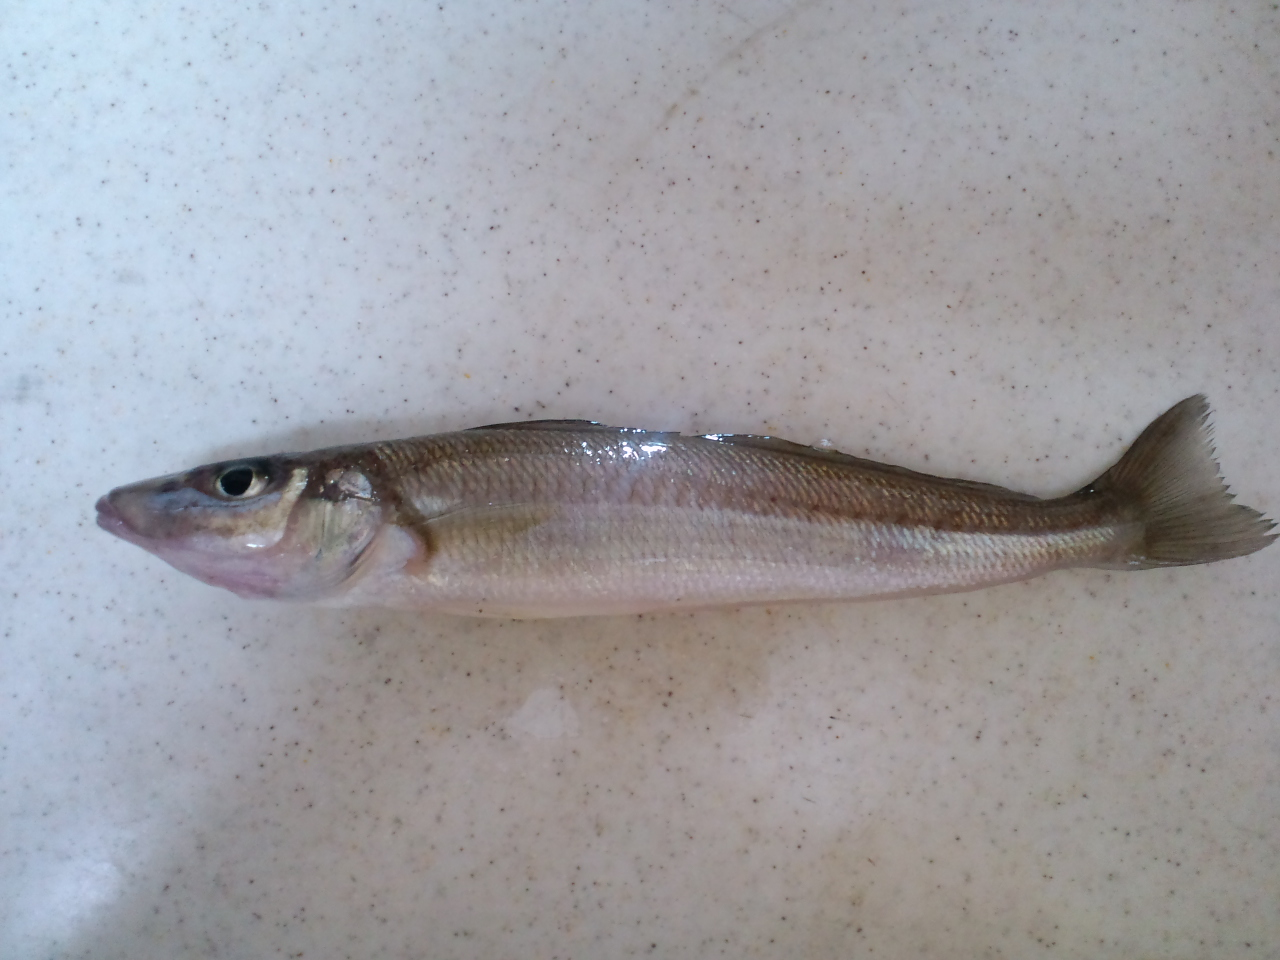kiss: (86, 396, 1260, 645)
